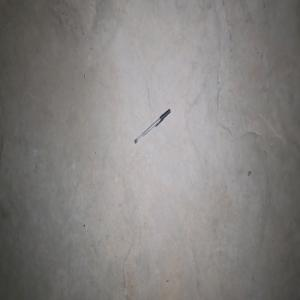Pen: (134, 108, 170, 143)
